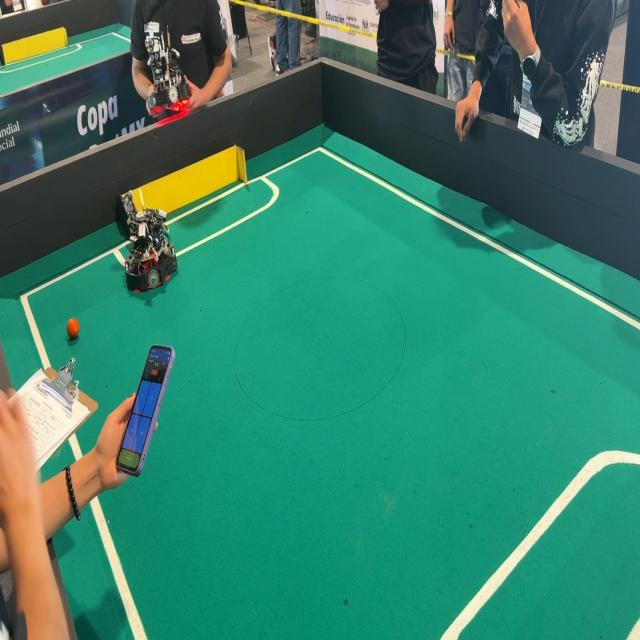Robot: (111, 185, 182, 304), (134, 22, 202, 115)
pelota: (62, 310, 87, 346)
